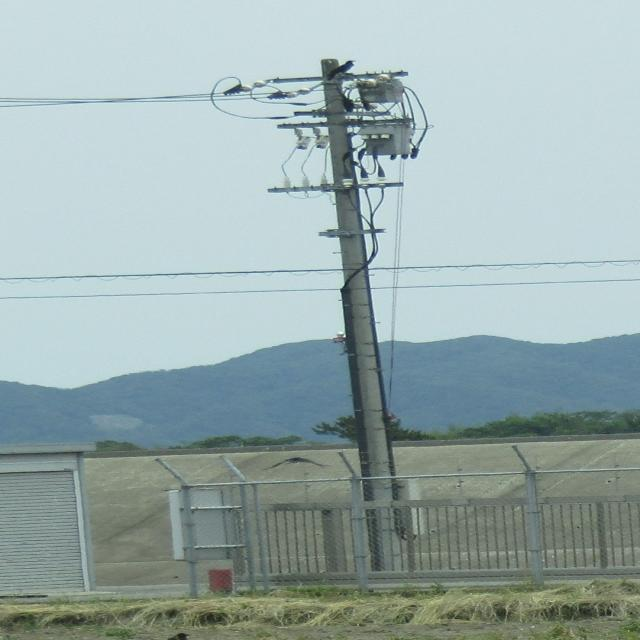pole: (214, 54, 434, 596)
